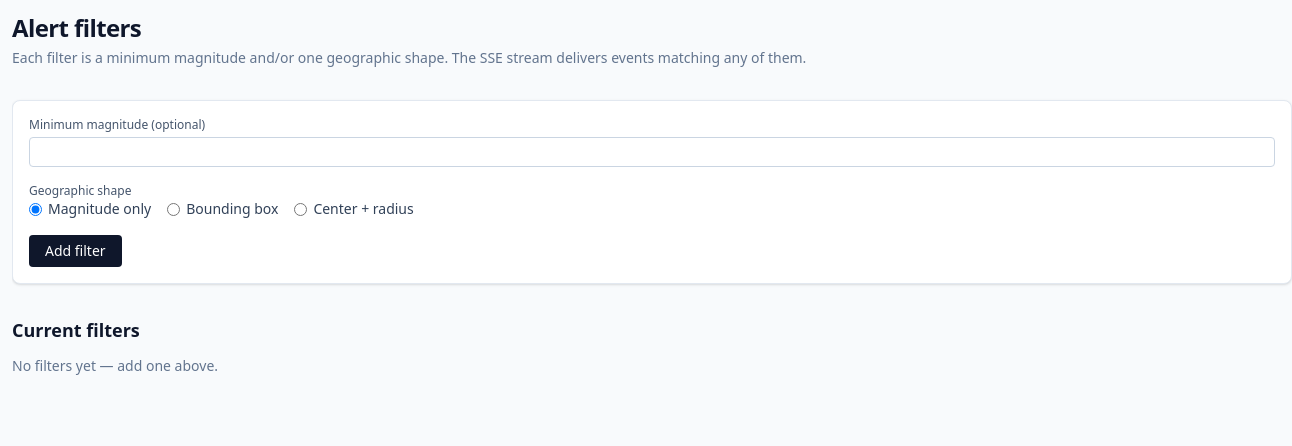
Scenario: AlertConfig › blocks an empty submission with a validation message
This screenshot has width=1292, height=446.
What coordinates should you click on to do the following:
click the button "Add filter"
I would click on:
 (75, 251)
Its box is [29, 235, 122, 267].
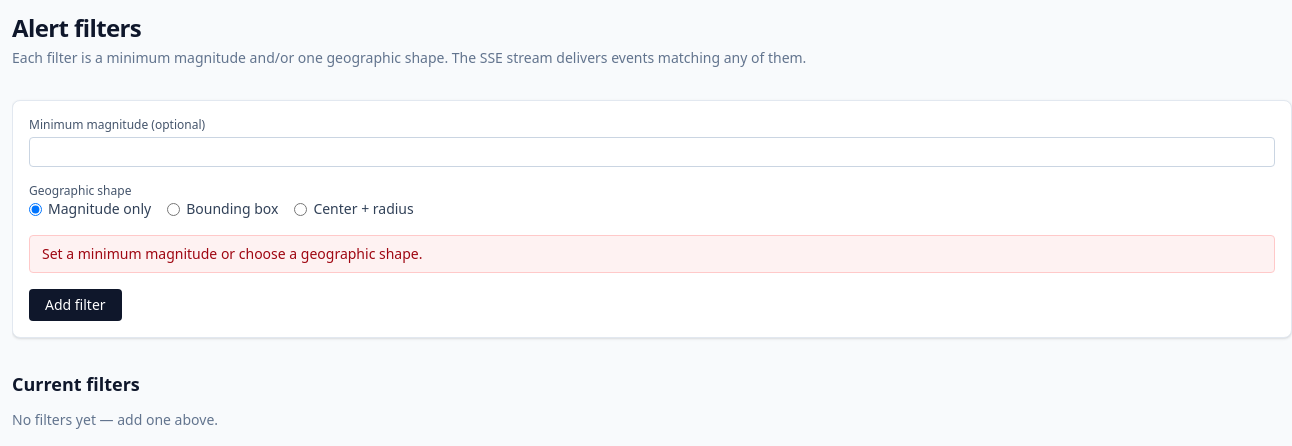
Expected: the message shows "minimum magnitude", [42, 244, 422, 263]
